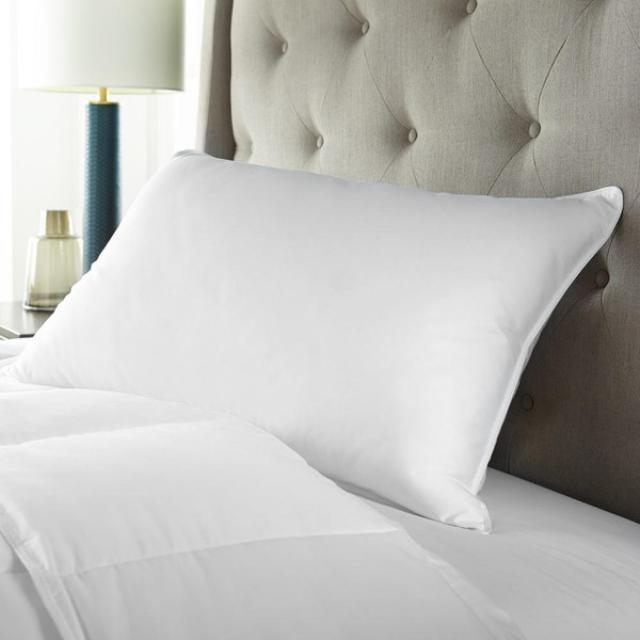lamp: (13, 0, 184, 266)
pillow: (5, 144, 626, 537)
